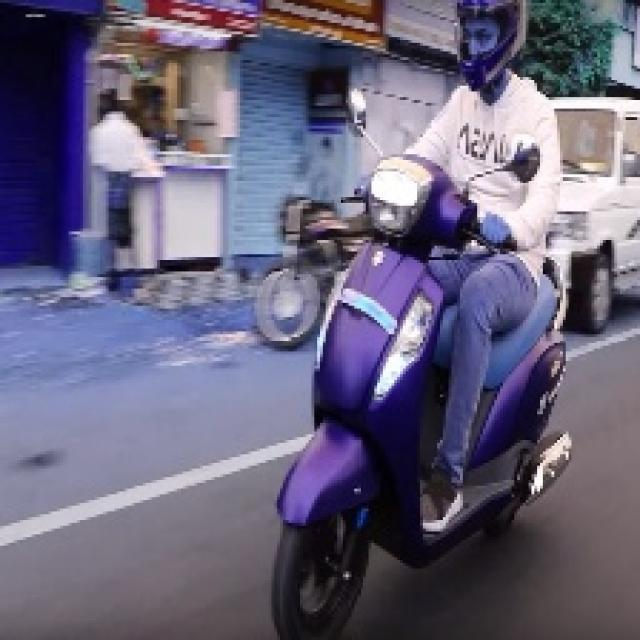bike: (286, 163, 550, 640)
